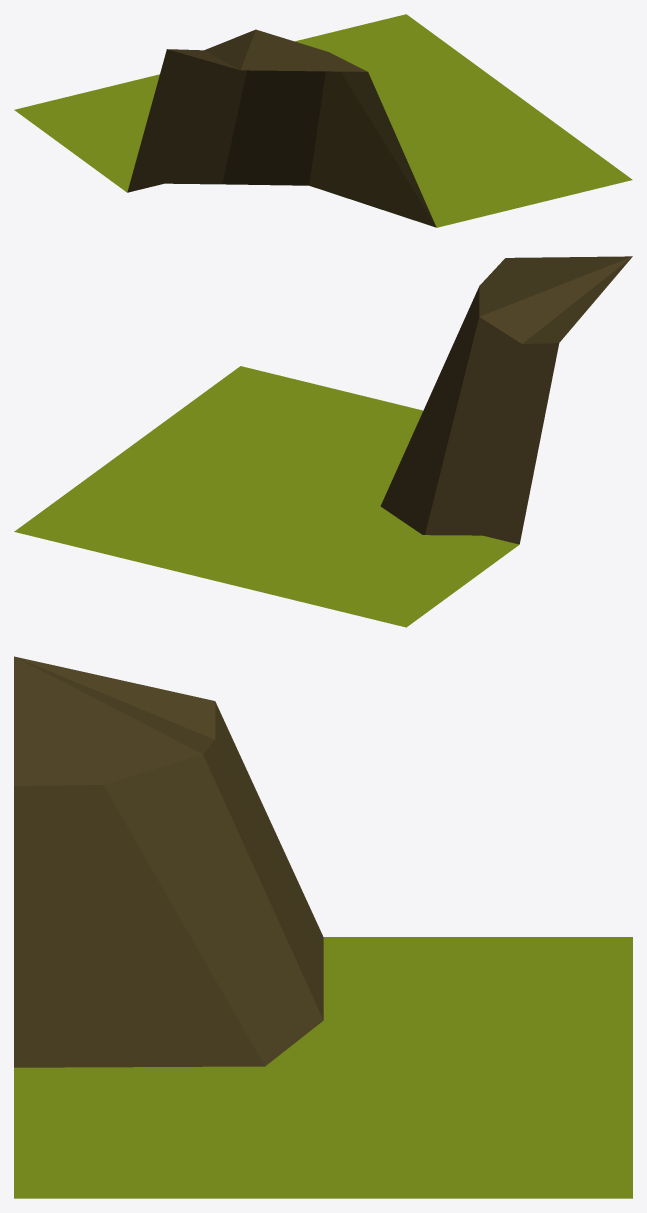
Rendered from wall01-convex1.fbx.
3 views of the same model, one above another, from view 1: azimuth 30°, elevation 25°; view 2: azimuth 150°, elevation 25°; view 3: azimuth 270°, elevation 25° (orthographic). The views are drawn at different scales.
Parts seen in each view (by area): view 1: wall01-convex1; view 2: wall01-convex1; view 3: wall01-convex1.
Part boxes in pixels (bbox=[...]): wall01-convex1: bbox=[14, 14, 632, 227]; wall01-convex1: bbox=[14, 256, 632, 627]; wall01-convex1: bbox=[14, 656, 632, 1198].
Size of the model in its own units: 100 by 54.02 by 100.
